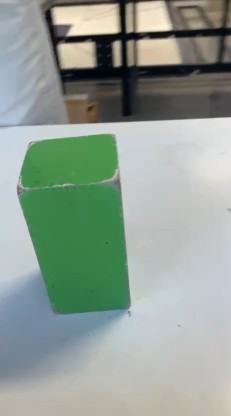green: (24, 154, 121, 305)
